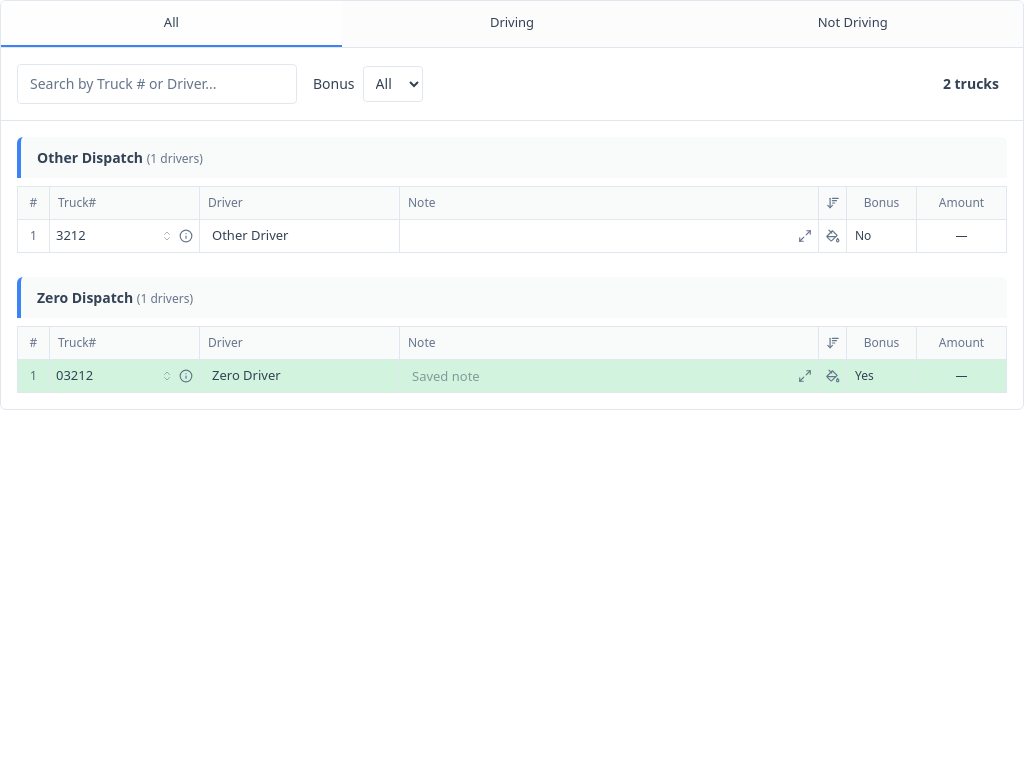
Scenario: enforces bonus editing for accounting
This screenshot has width=1024, height=768.
Expected: the dropdown named "Bonus for truck 03212" shows "Yes", [847,360,916,392]
Expected: the dropdown named "Bonus for truck 03212" is disabled, [847,360,916,392]
Click the button named "Expand Note" in the row of "Other Driver" at (805, 236), box [795,220,815,252]
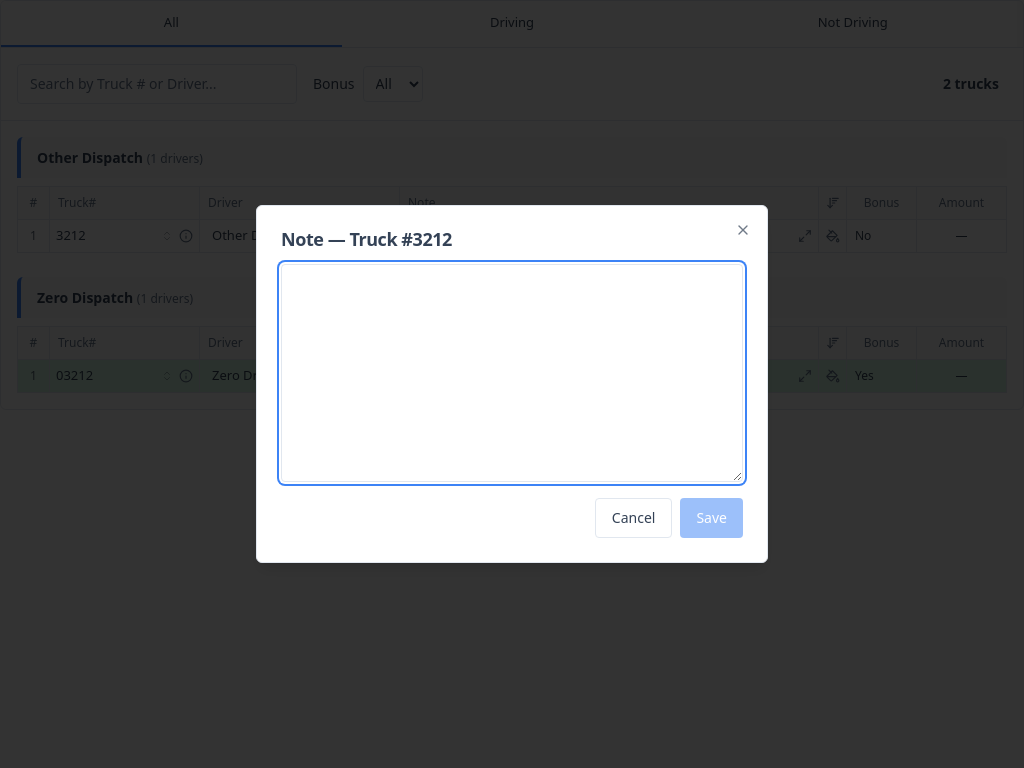
Expected: the button "Save" is disabled, [680,498,743,538]
